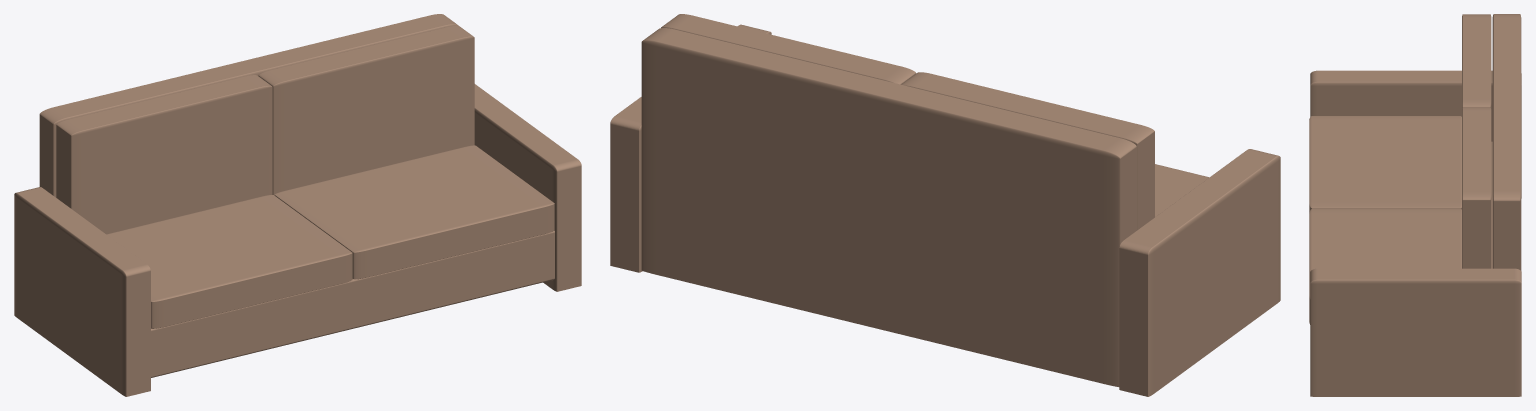
The model's file is couch.fbx.
The picture shows the model from 3 angles, left to right: view 1: azimuth 30°, elevation 25°; view 2: azimuth 150°, elevation 25°; view 3: azimuth 270°, elevation 25°; orthographic projection. The views are drawn at different scales.
Parts seen in each view (by area): view 1: Cube.002; view 2: Cube.002; view 3: Cube.002.
Part boxes in pixels (left/top/right/bottom): Cube.002: left=14, top=14, right=581, bottom=396; Cube.002: left=610, top=14, right=1280, bottom=396; Cube.002: left=1309, top=14, right=1521, bottom=396.
Bounding box in the file's own units: 11.37 × 4.72 × 4.86.
